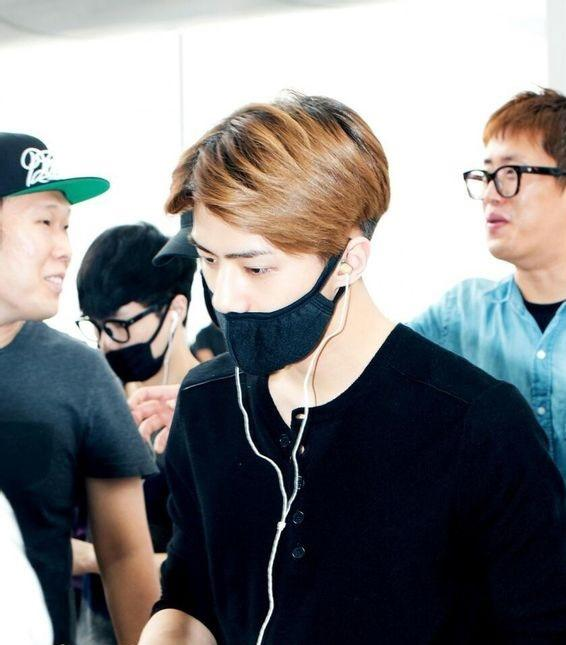NONE: (477, 152, 566, 258), (1, 208, 77, 314)
WRONG: (193, 234, 329, 370), (86, 304, 176, 382)
